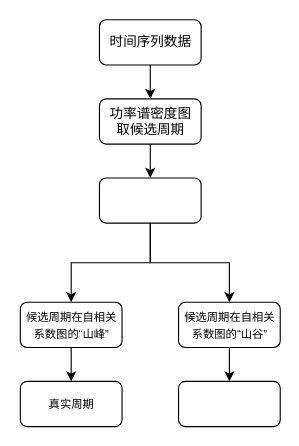
Image size: 299x446. Some labels were removed from this diagram. Each missing label, with the centre of its shape:
假周期: point (228, 403)
自相关系数图: point (149, 200)
